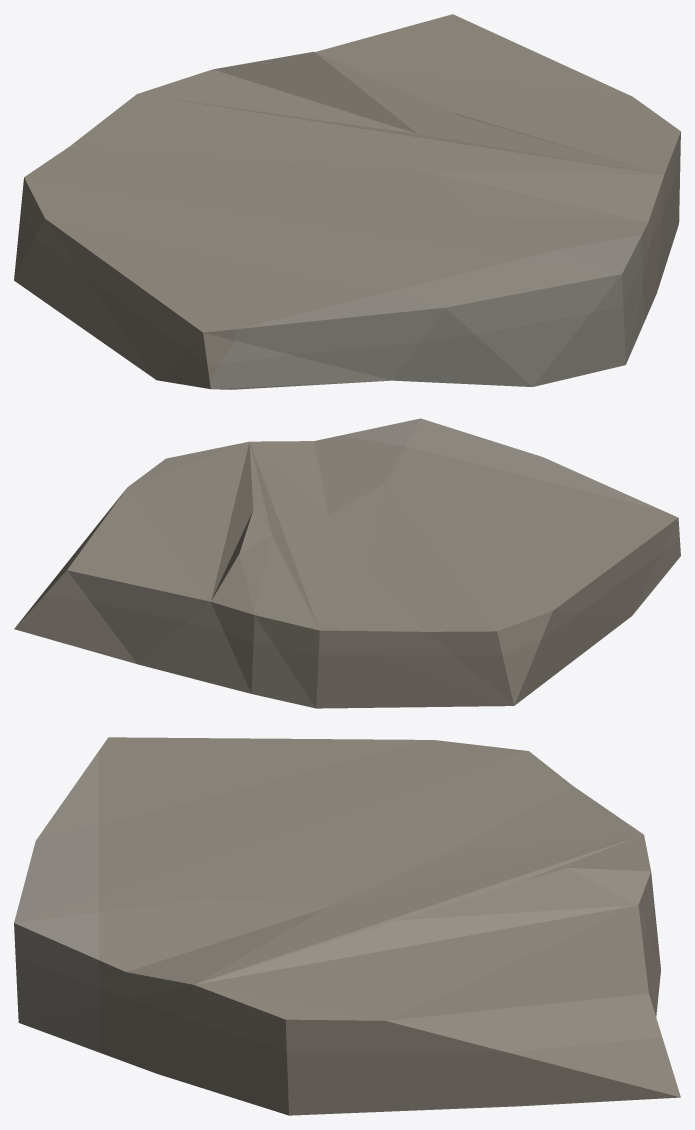
File: YN_RockPlate5.fbx
The picture shows the model from 3 angles, top to bottom: view 1: azimuth 30°, elevation 25°; view 2: azimuth 150°, elevation 25°; view 3: azimuth 270°, elevation 25°; orthographic projection. The views are drawn at different scales.
Parts seen in each view (by area): view 1: RockPlate5; view 2: RockPlate5; view 3: RockPlate5.
Part boxes in pixels (x1,y1,x2,y2): RockPlate5: (14,14,680,389); RockPlate5: (14,418,680,708); RockPlate5: (14,737,680,1115).
Bounding box in the file's own units: 0.9995 × 0.261 × 0.9956.
